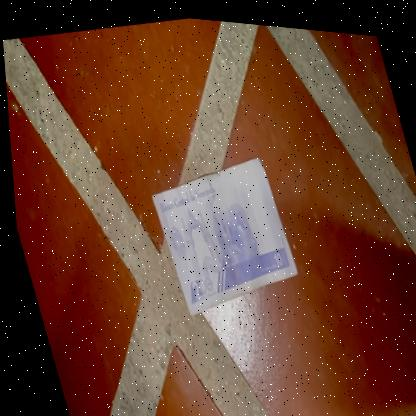ten-back-vef: (140, 142, 304, 323)
